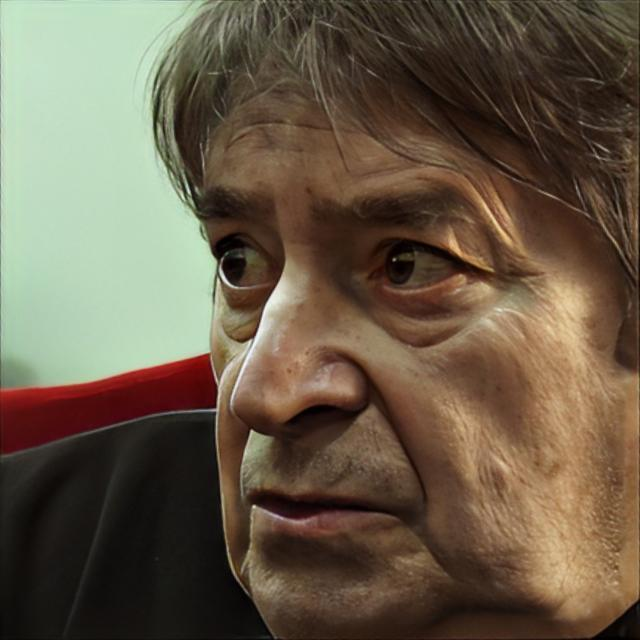sad: (192, 32, 619, 640)
